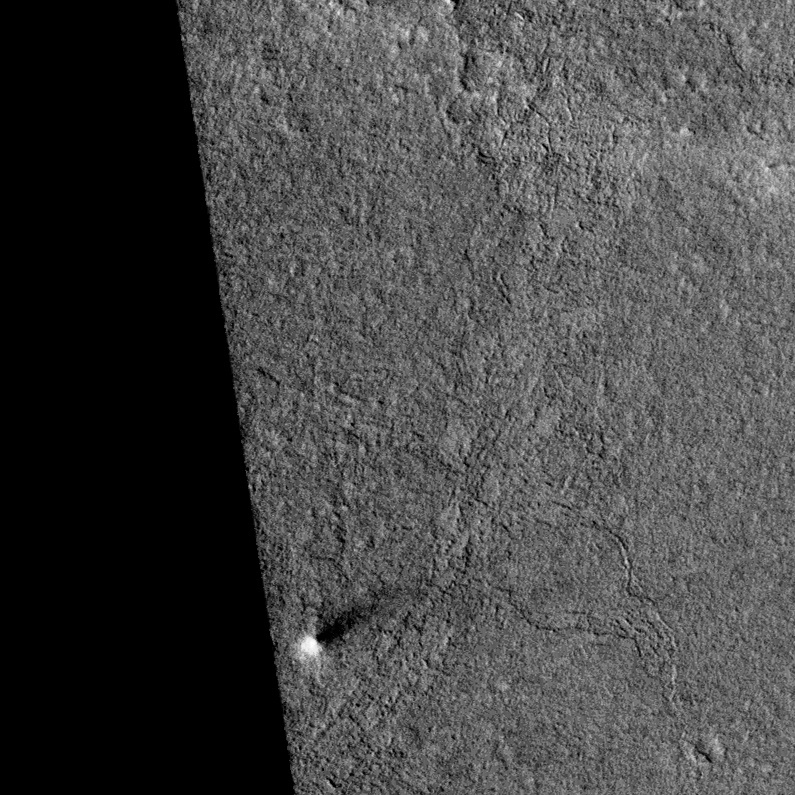dust_devil: (295, 594, 388, 661)
